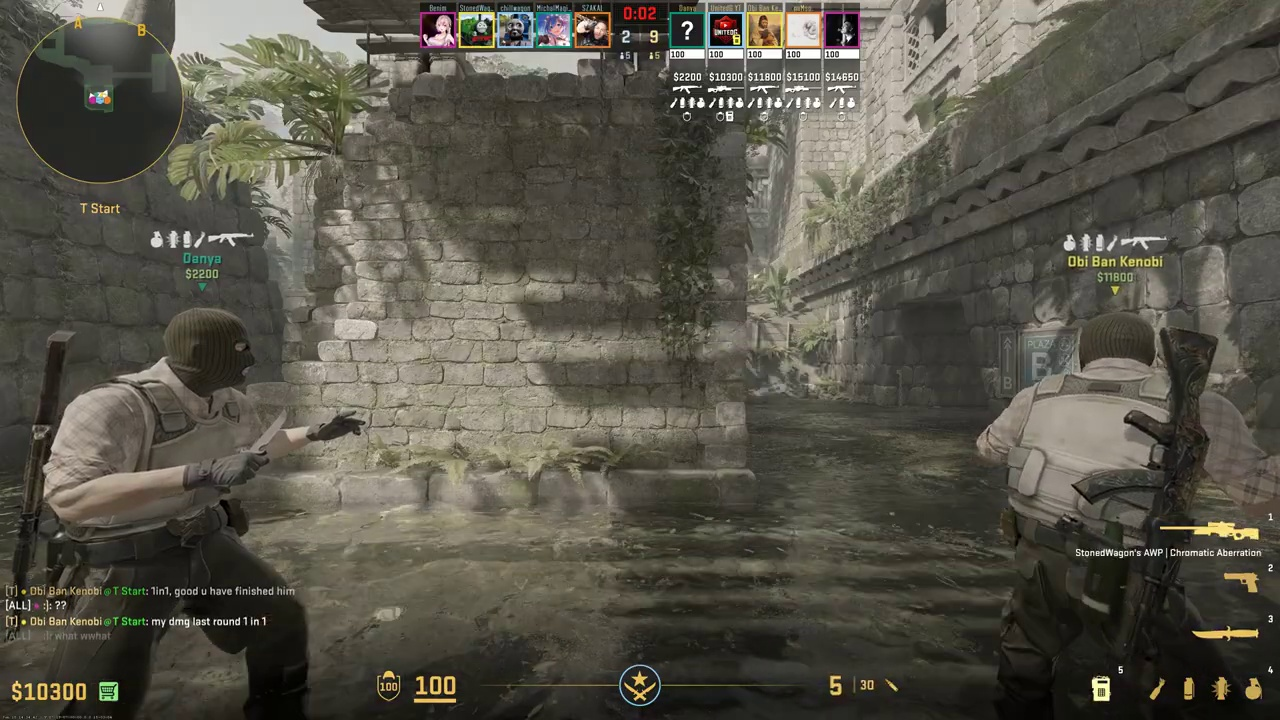Terrorist: (41, 310, 310, 720), (995, 311, 1210, 719)
